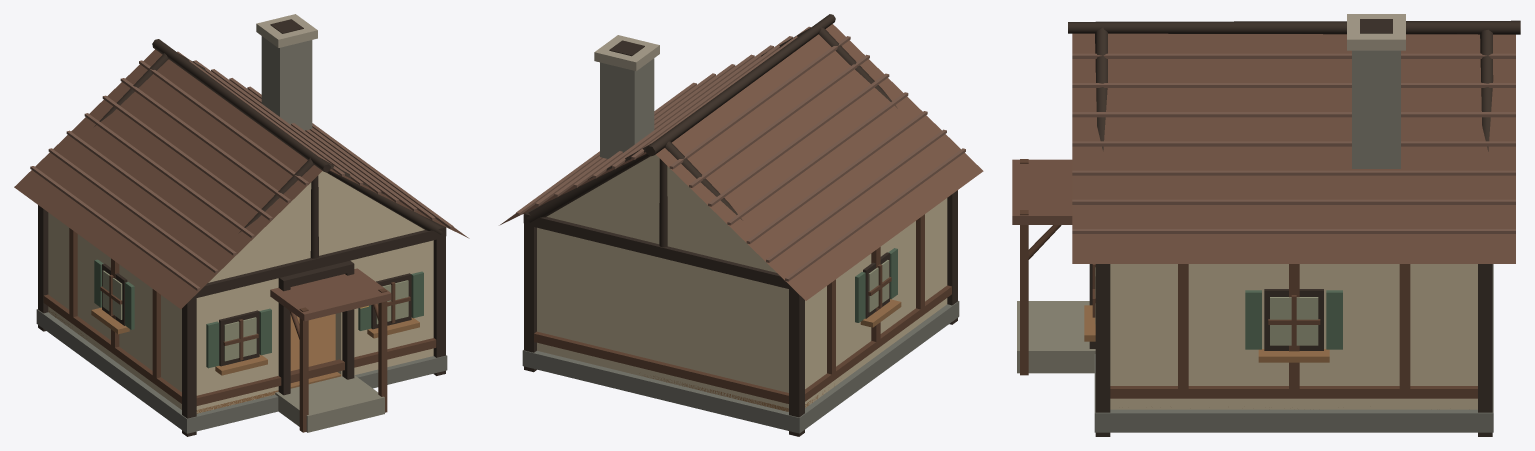
File: Village_Cottage_5x5.glb
The picture shows the model from 3 angles, left to right: view 1: azimuth 30°, elevation 25°; view 2: azimuth 150°, elevation 25°; view 3: azimuth 270°, elevation 25°; orthographic projection. The views are drawn at different scales.
Parts seen in each view (by area): view 1: _MeshInstance3D_4632, _MeshInstance3D_4602, _MeshInstance3D_4584, _MeshInstance3D_4582, _MeshInstance3D_4587, _MeshInstance3D_4588, _MeshInstance3D_4649, _MeshInstance3D_4655, _MeshInstance3D_4670, _MeshInstance3D_4601, _MeshInstance3D_4583, _MeshInstance3D_4600 (+41 smaller); view 2: _MeshInstance3D_4632, _MeshInstance3D_4586, _MeshInstance3D_4596, _MeshInstance3D_4584, _MeshInstance3D_4582, _MeshInstance3D_4649, _MeshInstance3D_4595, _MeshInstance3D_4594, _MeshInstance3D_4648, _MeshInstance3D_4590, _MeshInstance3D_4606, _MeshInstance3D_4592 (+26 smaller); view 3: _MeshInstance3D_4633, _MeshInstance3D_4585, _MeshInstance3D_4582, _MeshInstance3D_4649, _MeshInstance3D_4648, _MeshInstance3D_4655, _MeshInstance3D_4619, _MeshInstance3D_4670, _MeshInstance3D_4637, _MeshInstance3D_4639, _MeshInstance3D_4593, _MeshInstance3D_4641 (+18 smaller).
Boxes of the visible parts, left/top/right/bottom form: _MeshInstance3D_4632: left=14, top=49, right=322, bottom=308; _MeshInstance3D_4602: left=208, top=171, right=424, bottom=282; _MeshInstance3D_4584: left=48, top=212, right=199, bottom=412; _MeshInstance3D_4582: left=36, top=309, right=447, bottom=433; _MeshInstance3D_4587: left=196, top=278, right=278, bottom=412; _MeshInstance3D_4588: left=335, top=240, right=433, bottom=376; _MeshInstance3D_4649: left=261, top=36, right=312, bottom=130; _MeshInstance3D_4655: left=275, top=375, right=384, bottom=432; _MeshInstance3D_4670: left=270, top=268, right=391, bottom=321; _MeshInstance3D_4601: left=191, top=224, right=444, bottom=299; _MeshInstance3D_4583: left=49, top=310, right=341, bottom=413; _MeshInstance3D_4600: left=196, top=338, right=436, bottom=405; _MeshInstance3D_4632: left=656, top=24, right=983, bottom=300; _MeshInstance3D_4586: left=537, top=228, right=788, bottom=411; _MeshInstance3D_4596: left=547, top=154, right=776, bottom=272; _MeshInstance3D_4584: left=786, top=198, right=947, bottom=411; _MeshInstance3D_4582: left=522, top=301, right=959, bottom=433; _MeshInstance3D_4649: left=600, top=58, right=654, bottom=158; _MeshInstance3D_4595: left=525, top=210, right=794, bottom=290; _MeshInstance3D_4594: left=534, top=331, right=788, bottom=403; _MeshInstance3D_4648: left=645, top=14, right=835, bottom=156; _MeshInstance3D_4590: left=789, top=289, right=804, bottom=436; _MeshInstance3D_4606: left=805, top=285, right=951, bottom=401; _MeshInstance3D_4592: left=524, top=214, right=536, bottom=372; _MeshInstance3D_4633: left=1072, top=33, right=1515, bottom=263; _MeshInstance3D_4585: left=1110, top=264, right=1477, bottom=409; _MeshInstance3D_4582: left=1094, top=264, right=1493, bottom=432; _MeshInstance3D_4649: left=1352, top=50, right=1400, bottom=168; _MeshInstance3D_4648: left=1068, top=20, right=1520, bottom=34; _MeshInstance3D_4655: left=1017, top=301, right=1095, bottom=373; _MeshInstance3D_4619: left=1110, top=386, right=1477, bottom=398; _MeshInstance3D_4670: left=1012, top=159, right=1072, bottom=224; _MeshInstance3D_4637: left=1072, top=199, right=1515, bottom=204; _MeshInstance3D_4639: left=1072, top=170, right=1515, bottom=175; _MeshInstance3D_4593: left=1095, top=264, right=1110, bottom=436; _MeshInstance3D_4641: left=1072, top=141, right=1515, bottom=146.
Bounding box in the file's own units: 5.8 × 5.43 × 6.64.
